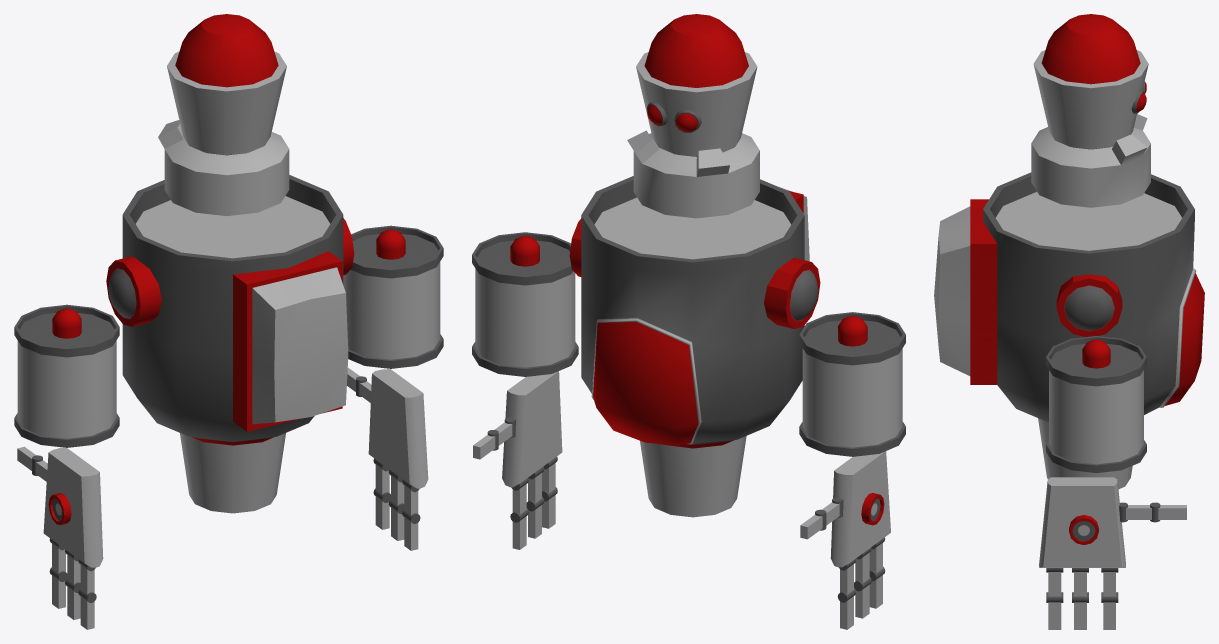
The model's file is MrBadRoboto.FBX.
3 renders of one model, left to right at view 1: azimuth 30°, elevation 25°; view 2: azimuth 150°, elevation 25°; view 3: azimuth 270°, elevation 25°, orthographic. The views are drawn at different scales.
Parts seen in each view (by area): view 1: Cylinder001; view 2: Cylinder001; view 3: Cylinder001.
Boxes of the visible parts, bbox=[...] form: Cylinder001: bbox=[14, 14, 443, 629]; Cylinder001: bbox=[472, 14, 905, 629]; Cylinder001: bbox=[934, 14, 1204, 629].
Size of the model in its own units: 145 by 185 by 85.47.
Materials: 1 (1 with a texture image).
